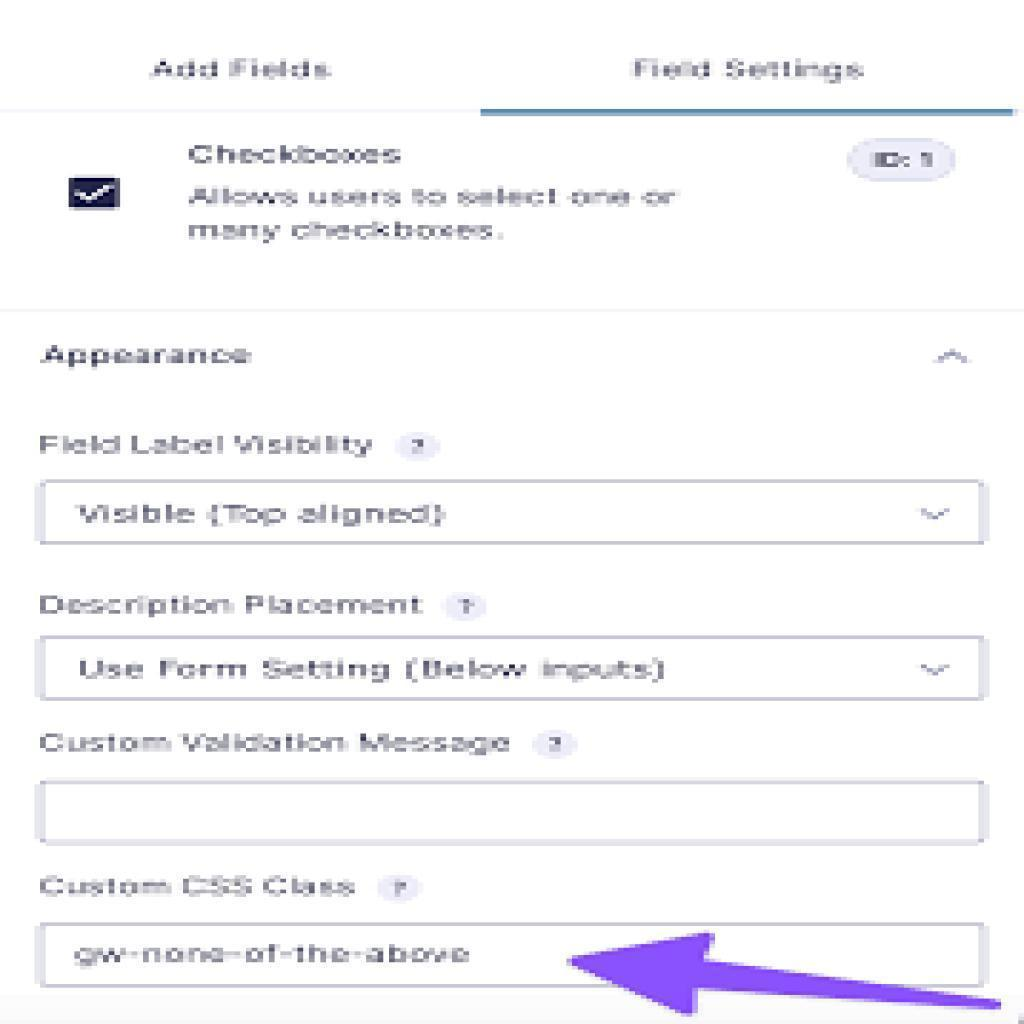checkbox: (67, 175, 122, 212)
dropdown: (39, 635, 988, 701), (34, 479, 987, 542)
icon: (933, 341, 973, 373)
input: (37, 781, 988, 845), (34, 920, 565, 992)
label: (40, 726, 511, 767), (33, 427, 378, 467), (37, 594, 430, 624), (33, 873, 358, 906), (633, 53, 883, 93), (189, 139, 407, 172), (150, 54, 339, 88)
